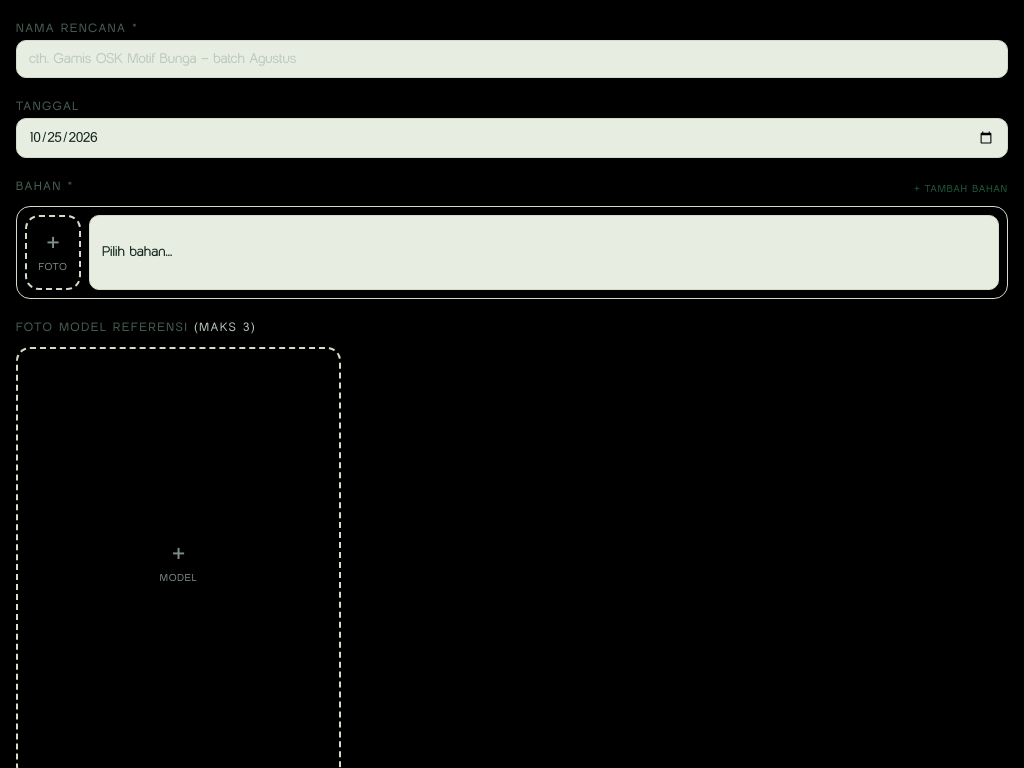
Test: PlanningForm › multi-bahan dgn foto masing-masing (permintaan Denny 2026-09) › tombol × menghapus baris bahan (kalau lebih dari 1 baris)
Click the button "+ Tambah Bahan" at (961, 188), box [914,180,1008,196]
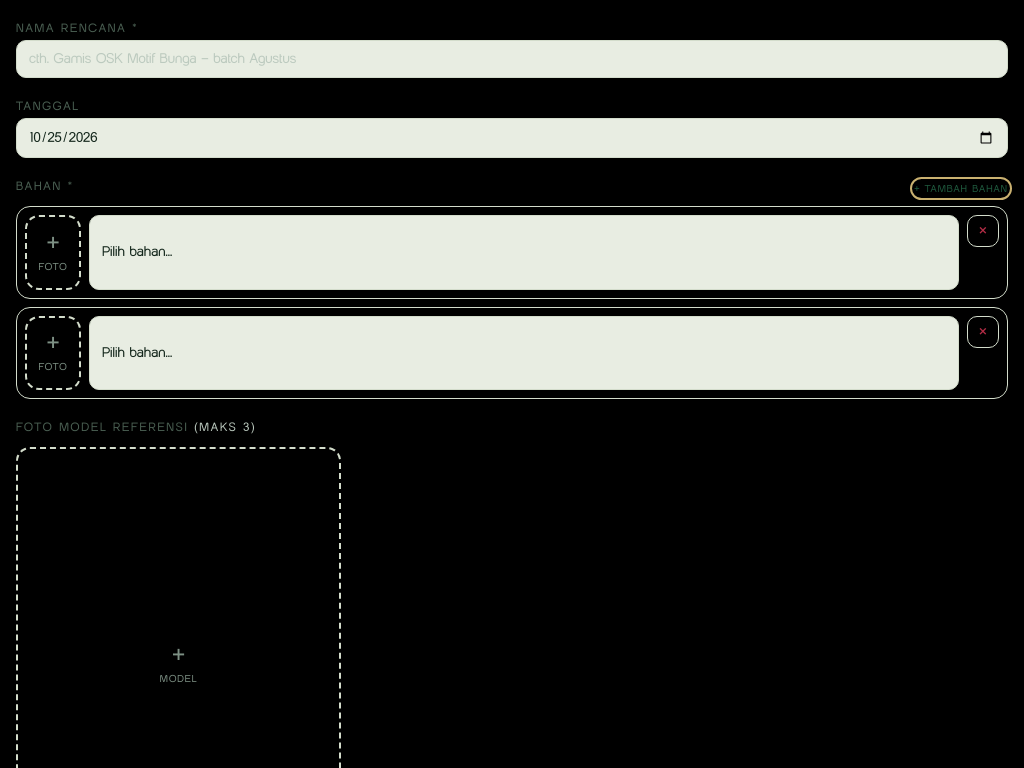
Expected: the number of buttons "Pilih bahan..." is 2, [89,215,959,290]; [89,316,959,390]
Click the 1st button "×" at (983, 231), box [967,215,999,247]
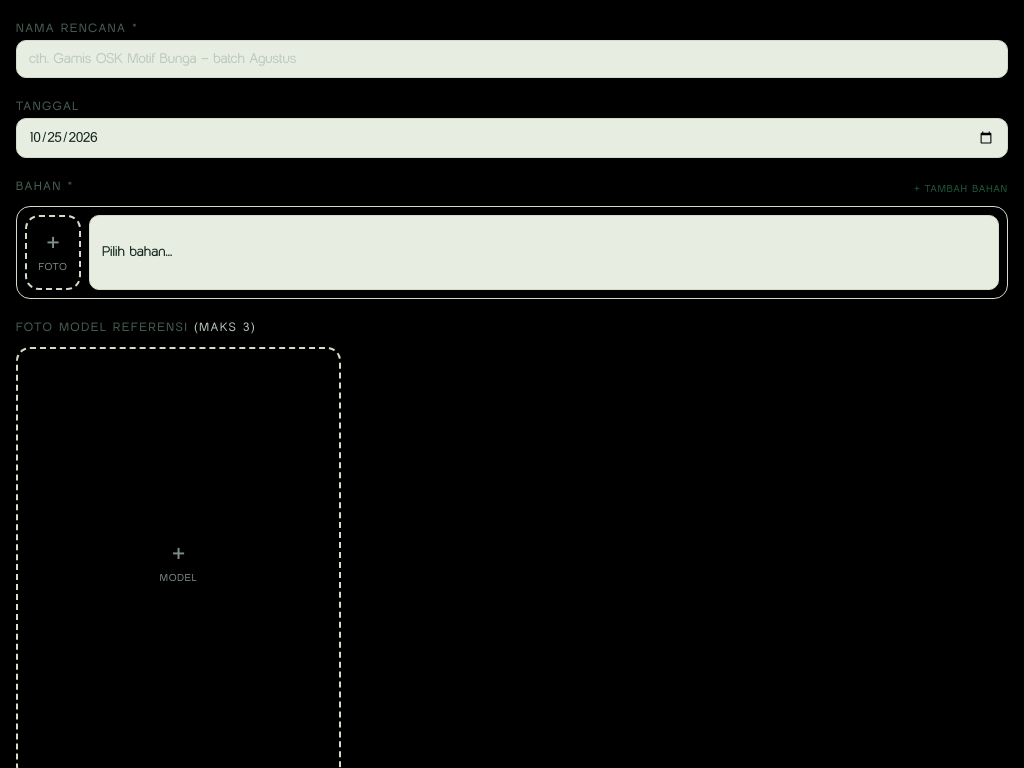
Expected: the number of buttons "Pilih bahan..." is 1, [89,215,999,290]
